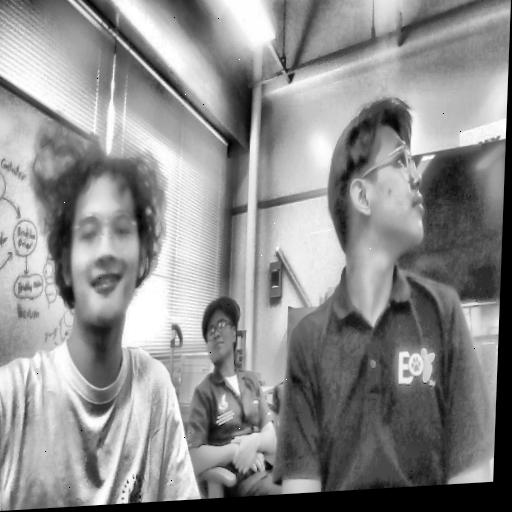Daifuku: (30, 123, 170, 342)
Not Daifuku: (322, 100, 427, 277), (199, 301, 248, 371)
